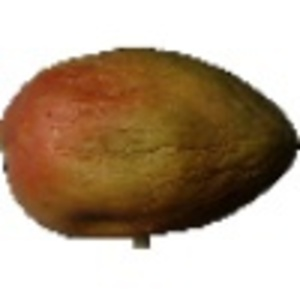mamão: (2, 39, 297, 239)
